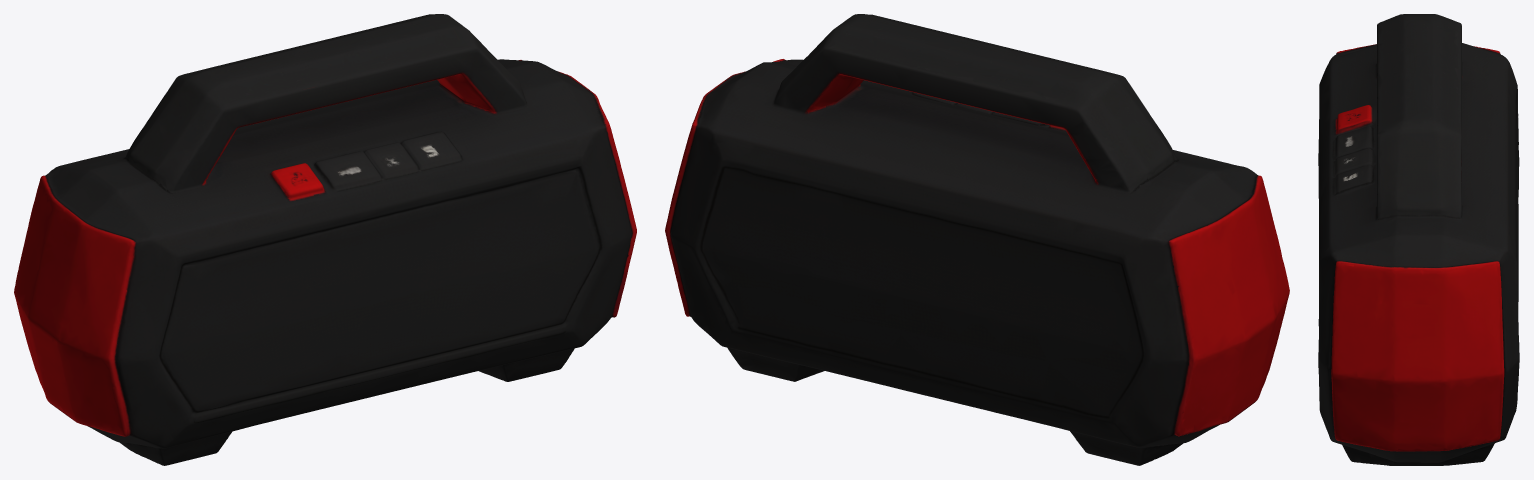
The model's file is radio_lod.glb.
The picture shows the model from 3 angles, left to right: view 1: azimuth 30°, elevation 25°; view 2: azimuth 150°, elevation 25°; view 3: azimuth 270°, elevation 25°; orthographic projection. The views are drawn at different scales.
Visible parts, largest first — view 1: world; view 2: world; view 3: world.
Part boxes in pixels (x1,y1,x2,y2): world: [14, 14, 636, 465]; world: [665, 14, 1289, 465]; world: [1318, 14, 1519, 465].
Bounding box in the file's own units: 0.9997 × 0.5771 × 0.3416.
Materials: 1 (1 with a texture image).
